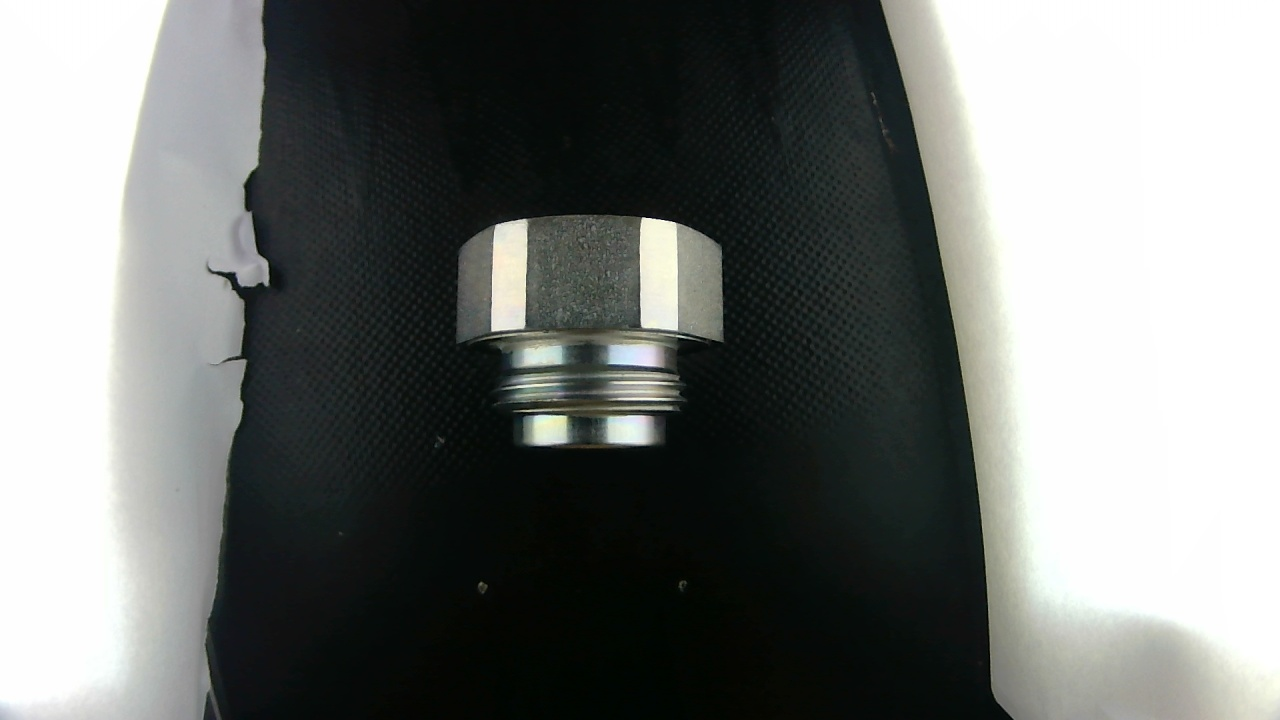Capnut_Hex_Out: (489, 324, 682, 356)
